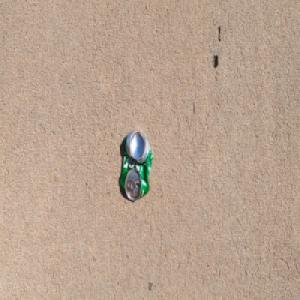SodaCan: (119, 128, 153, 201)
